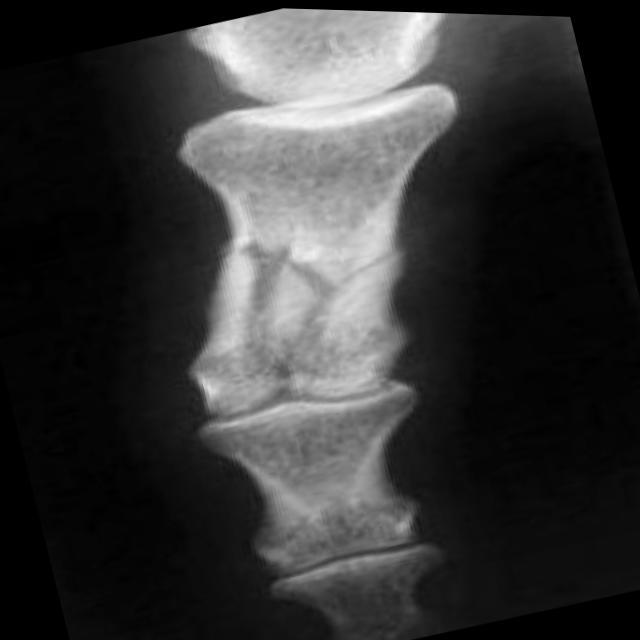fracture: (172, 207, 442, 429)
